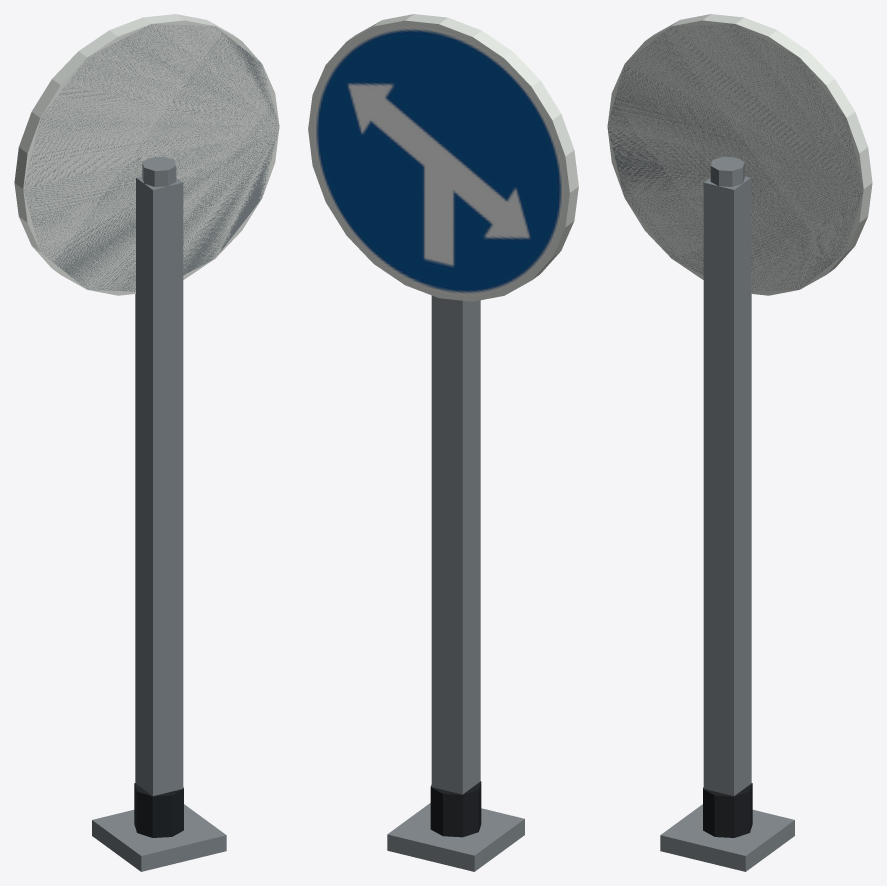
File: direction-sign-l-hr.glb
The picture shows the model from 3 angles, left to right: view 1: azimuth 30°, elevation 25°; view 2: azimuth 150°, elevation 25°; view 3: azimuth 330°, elevation 25°; orthographic projection. The views are drawn at different scales.
Parts seen in each view (by area): view 1: direction-sign-l-hr (×2); view 2: direction-sign-l-hr (×2); view 3: direction-sign-l-hr (×2).
Part boxes in pixels (x1,y1,x2,y2): direction-sign-l-hr (×2): (14,14,279,871); direction-sign-l-hr (×2): (308,14,578,871); direction-sign-l-hr (×2): (607,14,872,871).
Size of the model in its own units: 2.35 by 7.14 by 0.784.
Materials: 4 (1 with a texture image).
